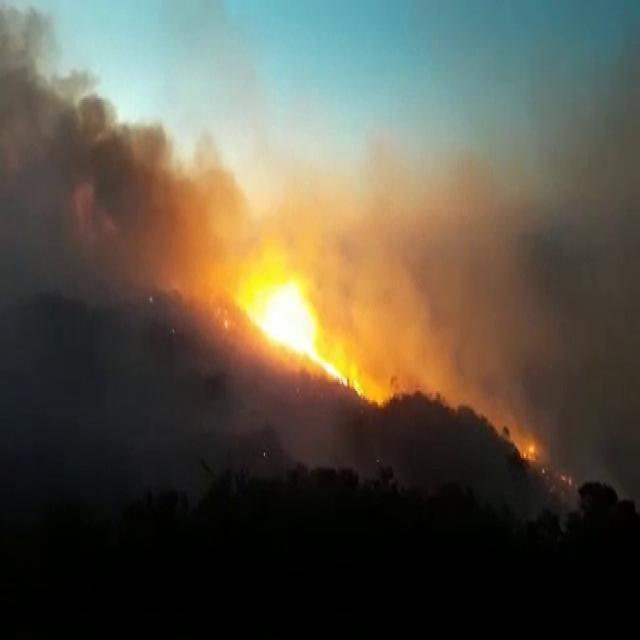Fire: (254, 252, 385, 406), (519, 432, 538, 466)
Smoke: (6, 7, 631, 522), (0, 0, 220, 324), (367, 220, 496, 429), (556, 458, 640, 518)
